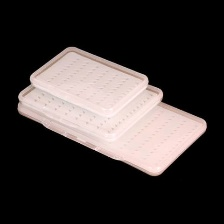plastic_box: (11, 42, 210, 180), (14, 72, 167, 145), (26, 42, 151, 120)
